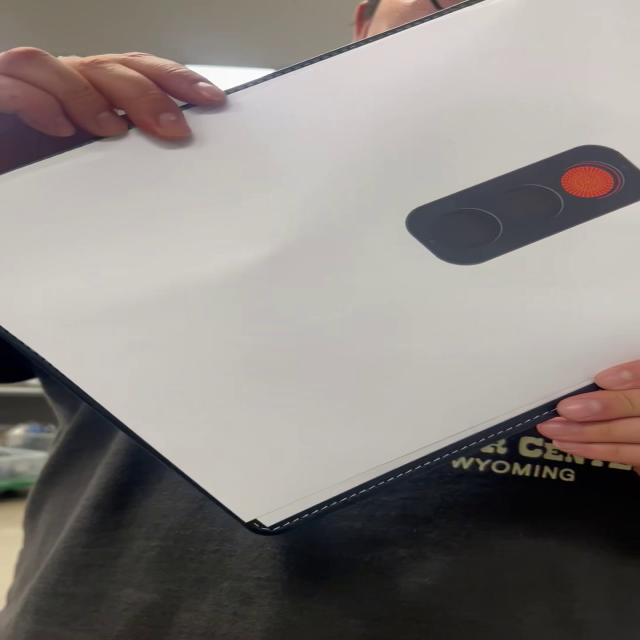red: (403, 141, 640, 270)
